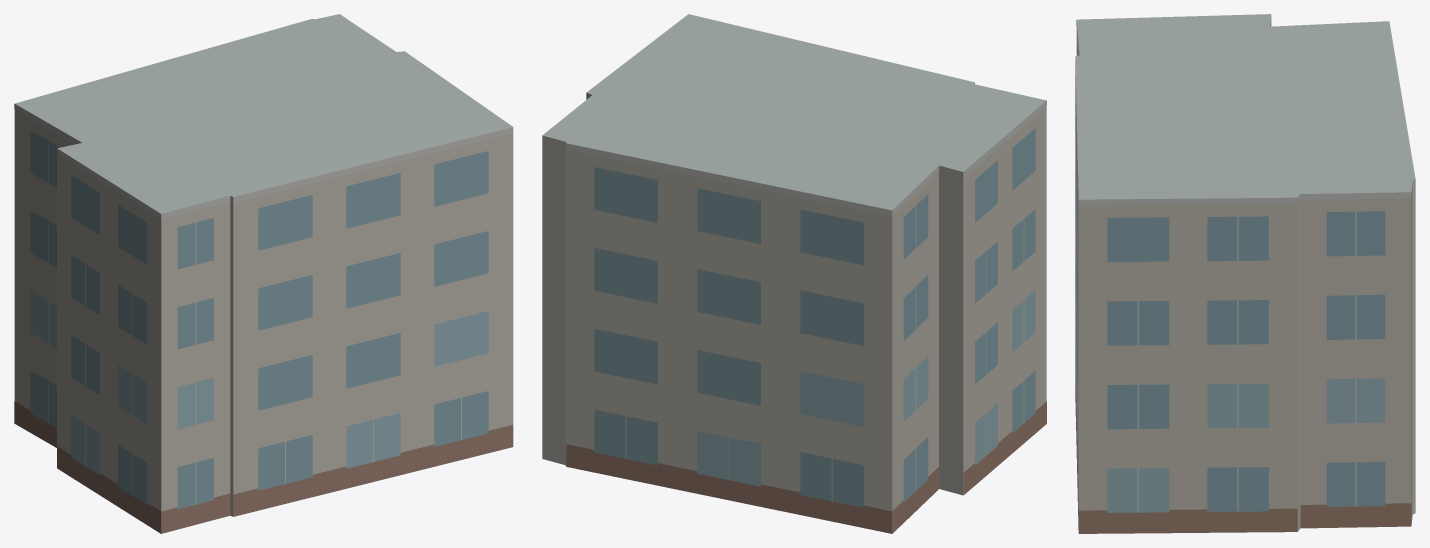
File: survey-upis-32746552.glb
The picture shows the model from 3 angles, left to right: view 1: azimuth 30°, elevation 25°; view 2: azimuth 150°, elevation 25°; view 3: azimuth 270°, elevation 25°; orthographic projection. The views are drawn at different scales.
Visible parts, largest first — view 1: survey-upis-32746552.tmp; view 2: survey-upis-32746552.tmp; view 3: survey-upis-32746552.tmp.
Boxes of the visible parts, left/top/right/bottom form: survey-upis-32746552.tmp: left=14, top=14, right=513, bottom=533; survey-upis-32746552.tmp: left=542, top=14, right=1046, bottom=533; survey-upis-32746552.tmp: left=1075, top=14, right=1415, bottom=533.
Size of the model in its own units: 15.85 by 13.3 by 12.28.
